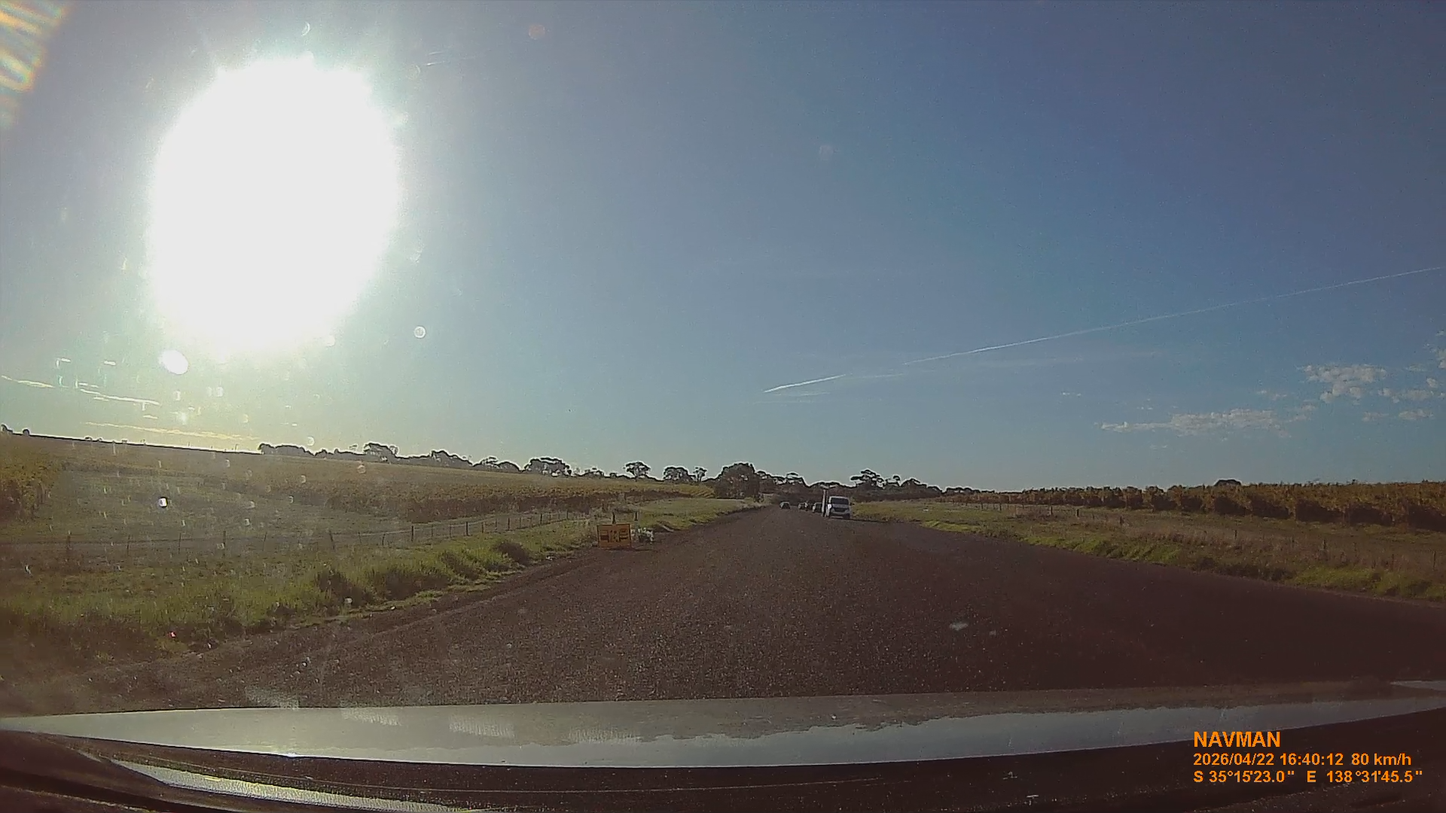fences: (978, 504, 1445, 571)
